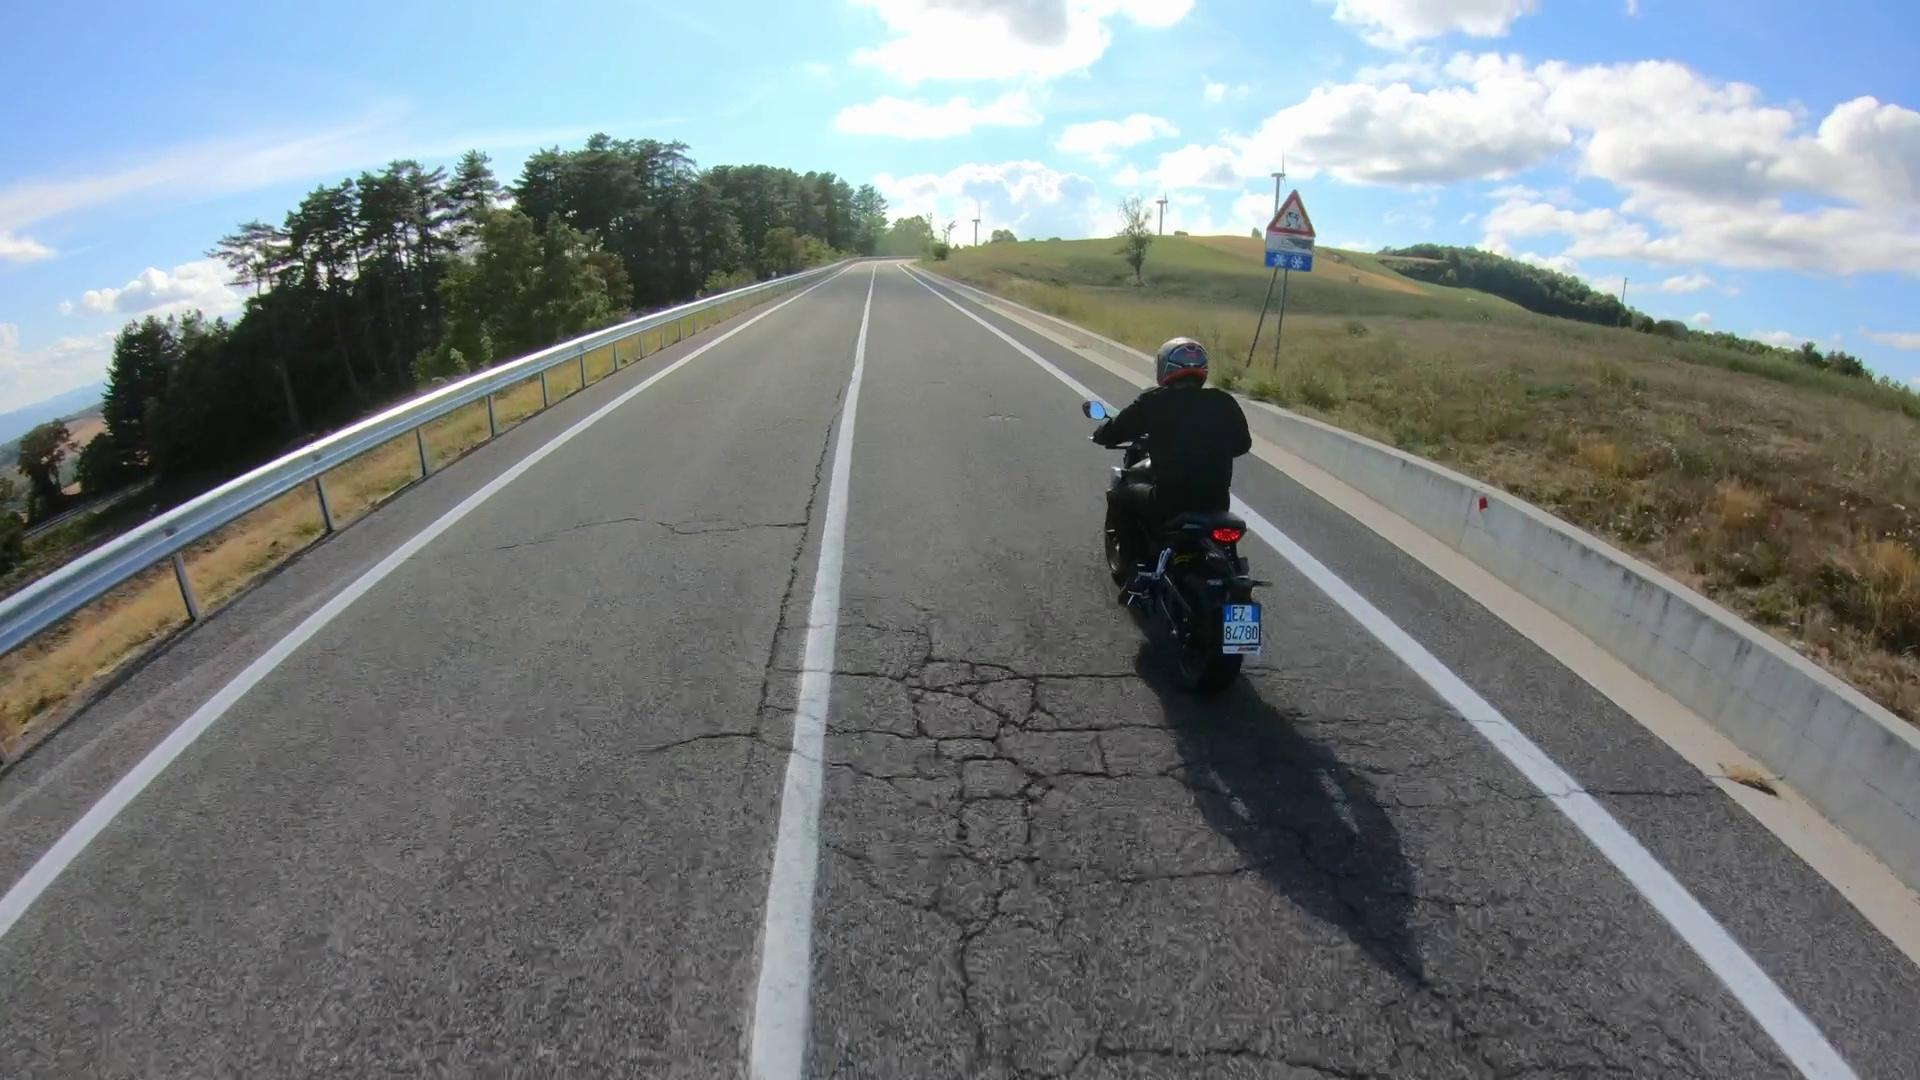cow: (1079, 395, 1270, 700)
horse: (1094, 337, 1252, 595)
